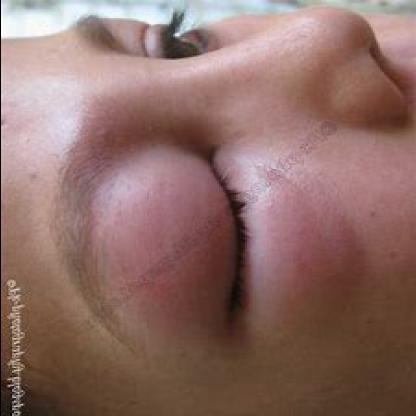Wasp: (82, 144, 360, 348)
